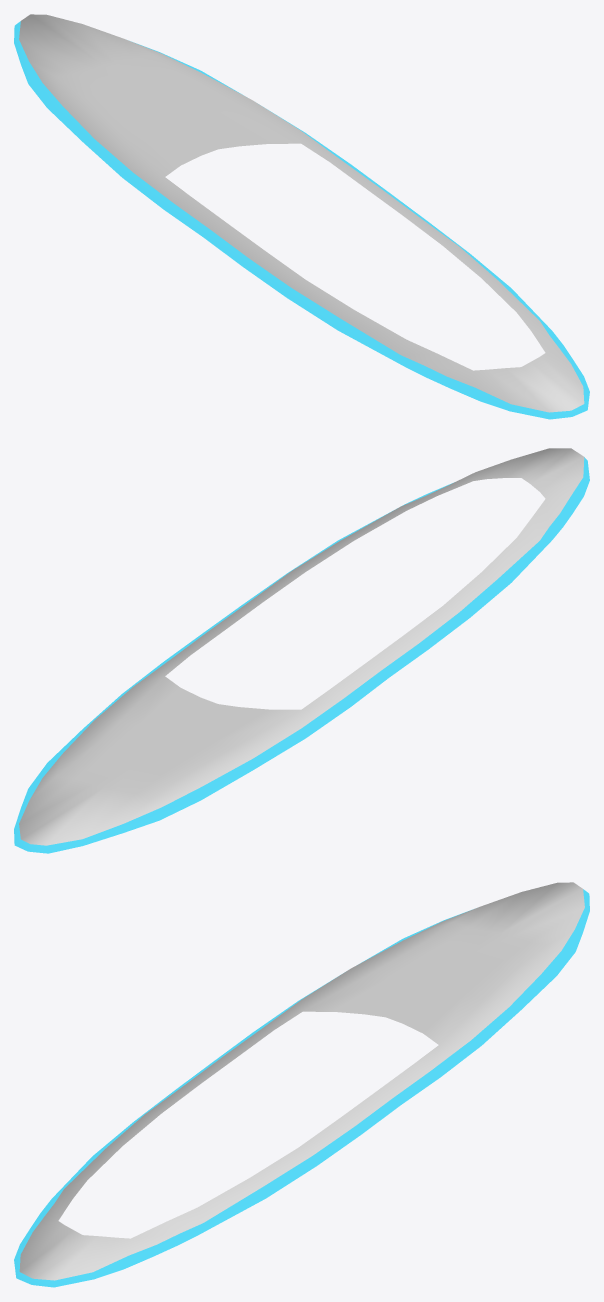
File: future_paddle.glb
The picture shows the model from 3 angles, top to bottom: view 1: azimuth 30°, elevation 25°; view 2: azimuth 150°, elevation 25°; view 3: azimuth 330°, elevation 25°; orthographic projection.
Visible parts, largest first — view 1: BottomYellow; view 2: BottomYellow; view 3: BottomYellow.
Boxes of the visible parts, x1,y1,x2,y2 form: BottomYellow: (14,14,589,419); BottomYellow: (14,448,589,853); BottomYellow: (14,882,589,1287).
Size of the model in its own units: 1.7 by 0.1206 by 8.58.
